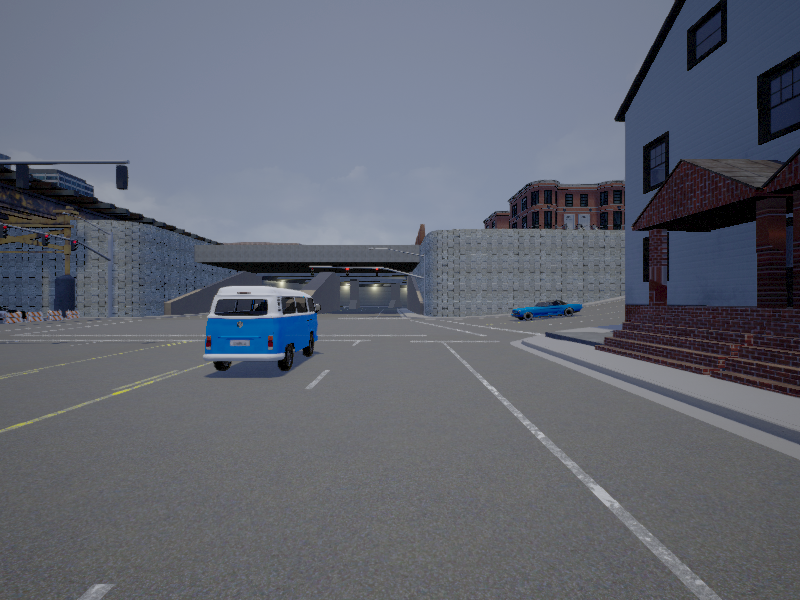Benign: (205, 287, 319, 370), (510, 299, 583, 320)
